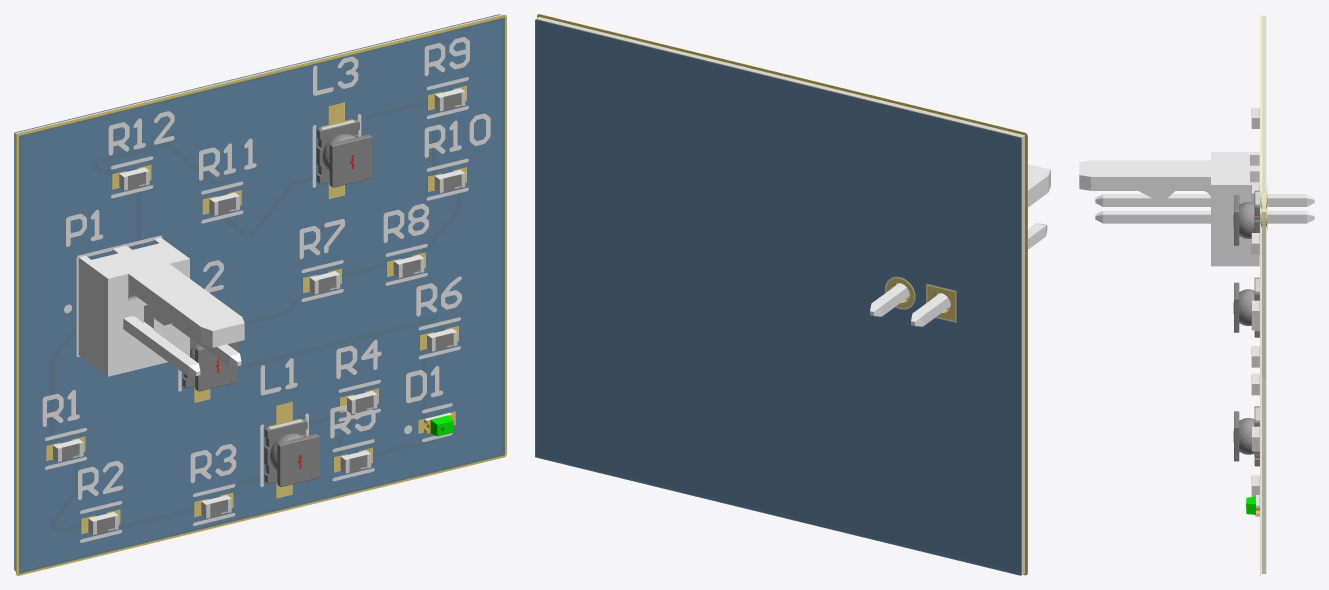
3 views of the same model, side by side, from view 1: azimuth 30°, elevation 25°; view 2: azimuth 150°, elevation 25°; view 3: azimuth 270°, elevation 25° (orthographic). The views are drawn at different scales.
Parts seen in each view (by area): view 1: Solder_Top, ComponentBody.78, ComponentBody.22, ComponentBody.54, Track.1, Core, Track, ComponentBody.34, Track.3, Solder_Bottom, Silk.52, Silk.66 (+12 smaller); view 2: Solder_Bottom, Core, ComponentBody.78, Track.1, Track.3; view 3: ComponentBody.78, Core, ComponentBody.23, ComponentBody.55, ComponentBody.35, Track.2.
Part boxes in pixels (bbox=[...]): Solder_Top: bbox=[19, 17, 504, 573]; ComponentBody.78: bbox=[78, 237, 244, 376]; ComponentBody.22: bbox=[329, 134, 372, 187]; ComponentBody.54: bbox=[277, 434, 319, 486]; Track.1: bbox=[16, 14, 506, 137]; Core: bbox=[15, 14, 501, 571]; Track: bbox=[16, 453, 506, 575]; ComponentBody.34: bbox=[195, 341, 237, 391]; Track.3: bbox=[16, 133, 20, 575]; Solder_Bottom: bbox=[14, 14, 500, 570]; Silk.52: bbox=[424, 113, 490, 157]; Silk.66: bbox=[108, 111, 174, 155]; Solder_Bottom: bbox=[535, 19, 1021, 575]; Core: bbox=[536, 17, 1024, 575]; ComponentBody.78: bbox=[870, 164, 1050, 326]; Track.1: bbox=[537, 14, 1027, 137]; Track.3: bbox=[1023, 134, 1027, 574]; ComponentBody.78: bbox=[1079, 152, 1314, 266]; Core: bbox=[1261, 16, 1266, 573]; ComponentBody.23: bbox=[1239, 202, 1254, 238]; ComponentBody.55: bbox=[1239, 418, 1254, 454]; ComponentBody.35: bbox=[1239, 289, 1254, 325]; Track.2: bbox=[1260, 213, 1260, 574].
Size of the model in its own units: 304 by 262 by 153.
